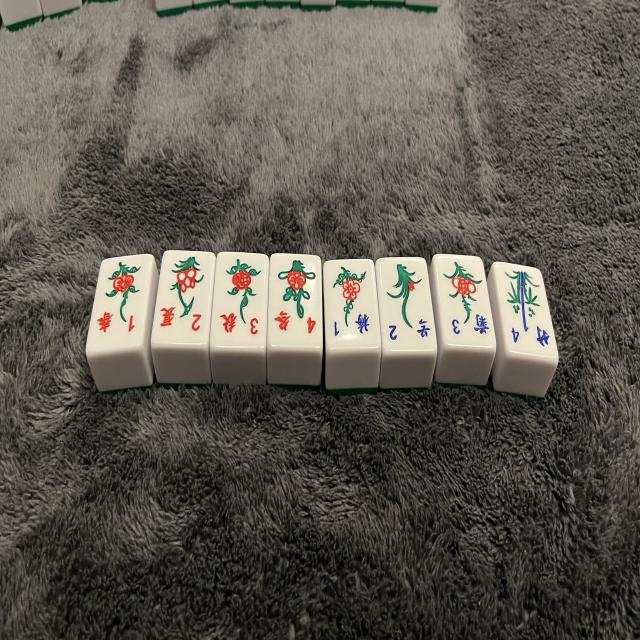f1: (326, 260, 379, 348)
f2: (379, 261, 436, 351)
f3: (434, 257, 496, 348)
f4: (496, 267, 558, 357)
ff1: (90, 256, 152, 352)
ff2: (151, 249, 213, 344)
ff3: (212, 254, 268, 348)
ff4: (268, 257, 322, 347)
